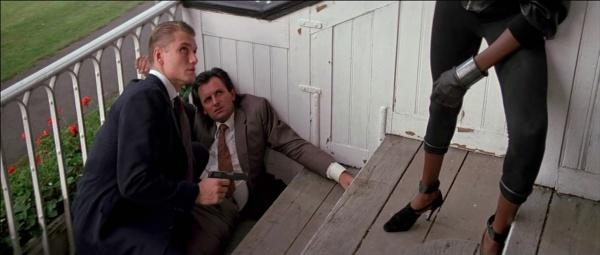Gun: (210, 168, 250, 182)
